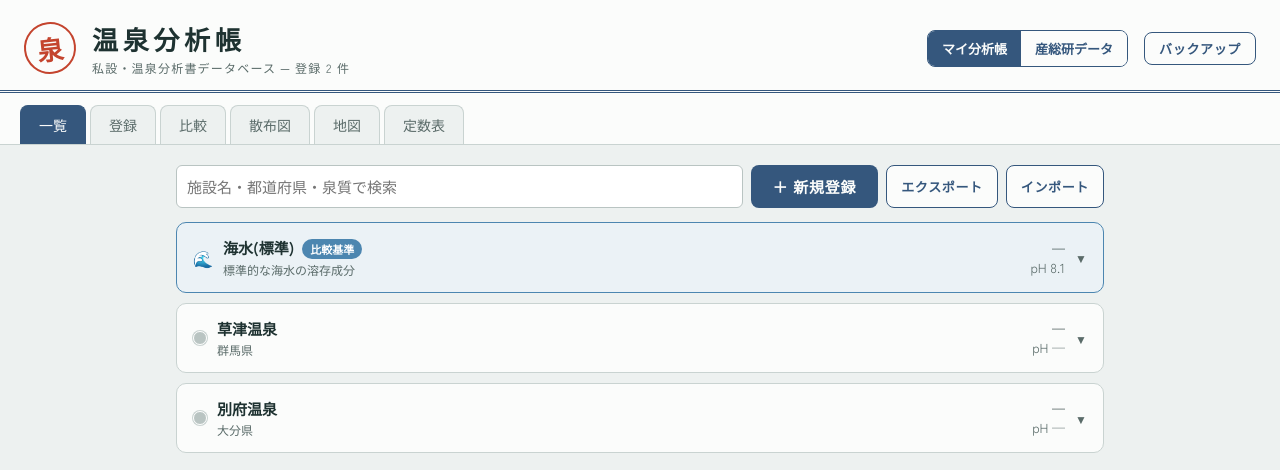
it: 一覧 › 検索でレコードを絞り込める
Type "大分" into the field with placeholder "施設名・都道府県・泉質で検索" at (459, 186), box left=176, top=165, right=742, bottom=208
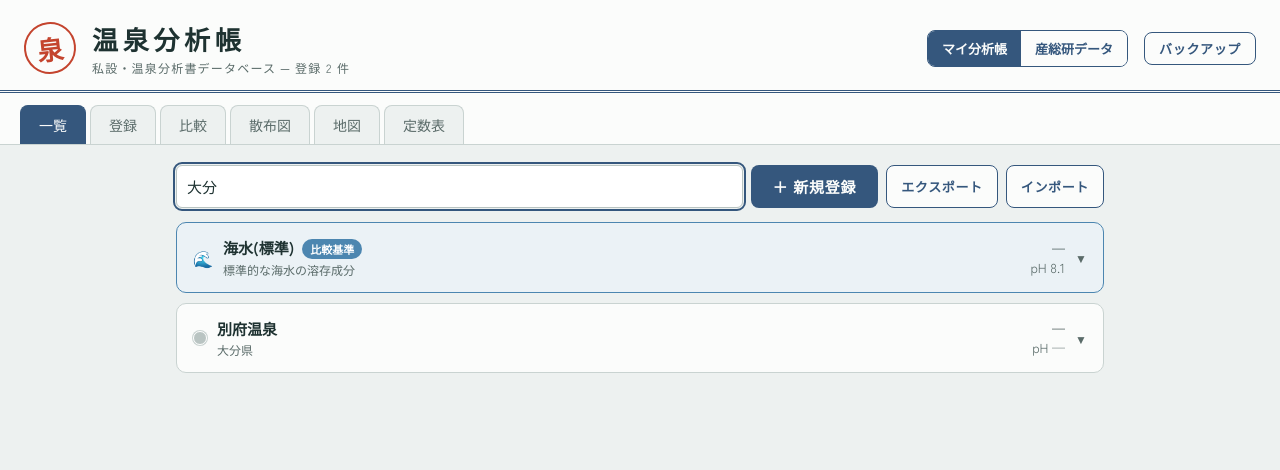
Expected: the text "別府温泉" is shown, left=217, top=318, right=277, bottom=339
Expected: the text "草津温泉" is gone
